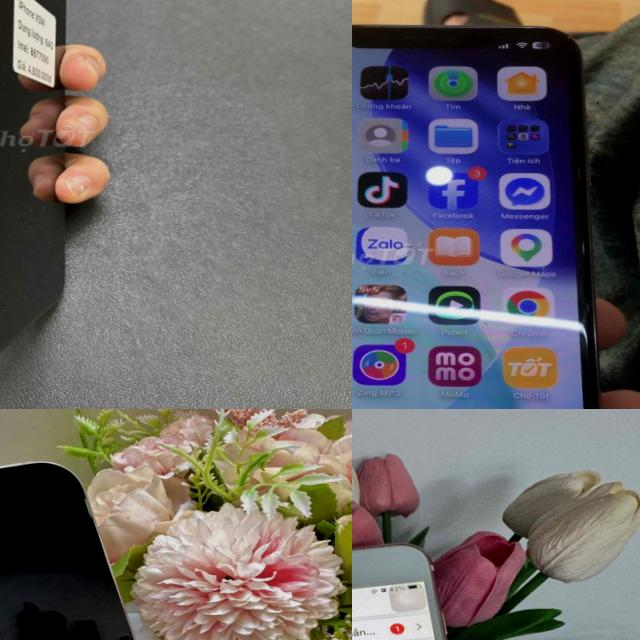gen_11: (352, 25, 598, 409)
gen_16: (0, 463, 134, 640)
gen_7_8: (352, 534, 511, 640)
gen_x_xs: (0, 0, 65, 351)
